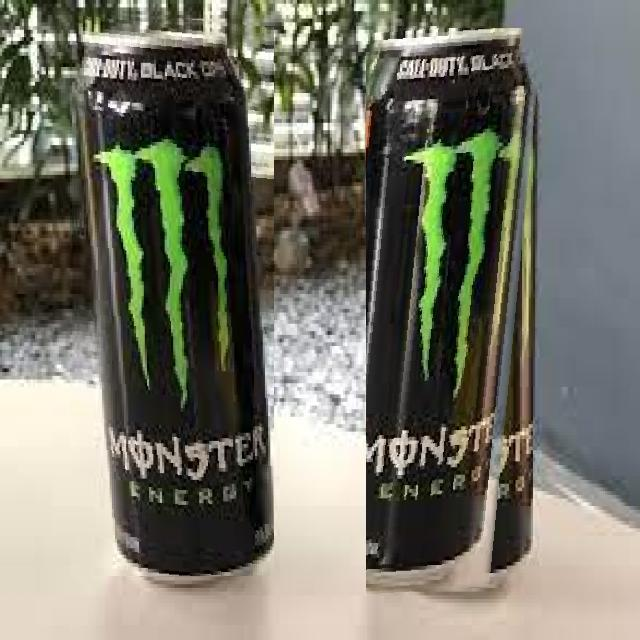Cans: (72, 8, 274, 576), (366, 29, 544, 598)
